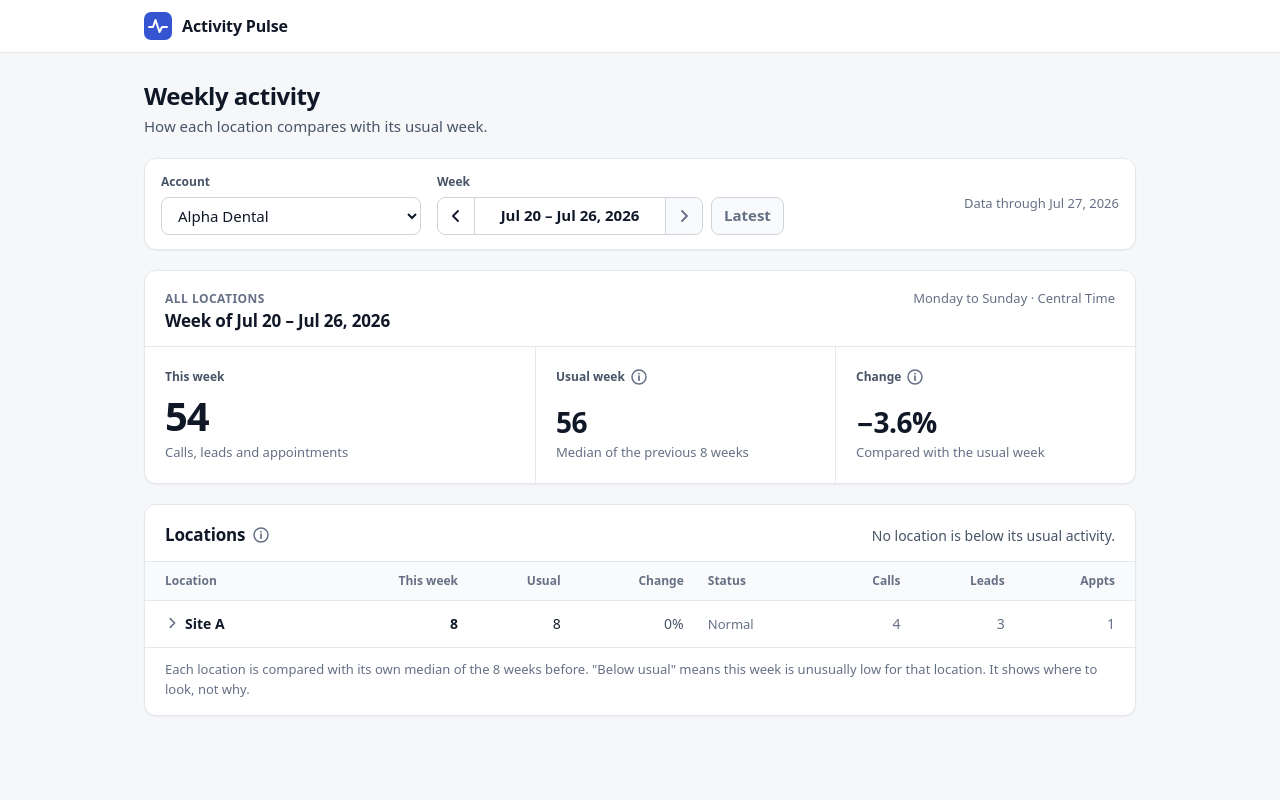
Test: information popovers and details › collapses expanded locations when another week is shown
Expected: the heading "Week of Jul 20 – Jul 26, 2026" is shown, [165,310,390,332]
Click the button "Site A".
click(198, 623)  # box [163,609,233,638]
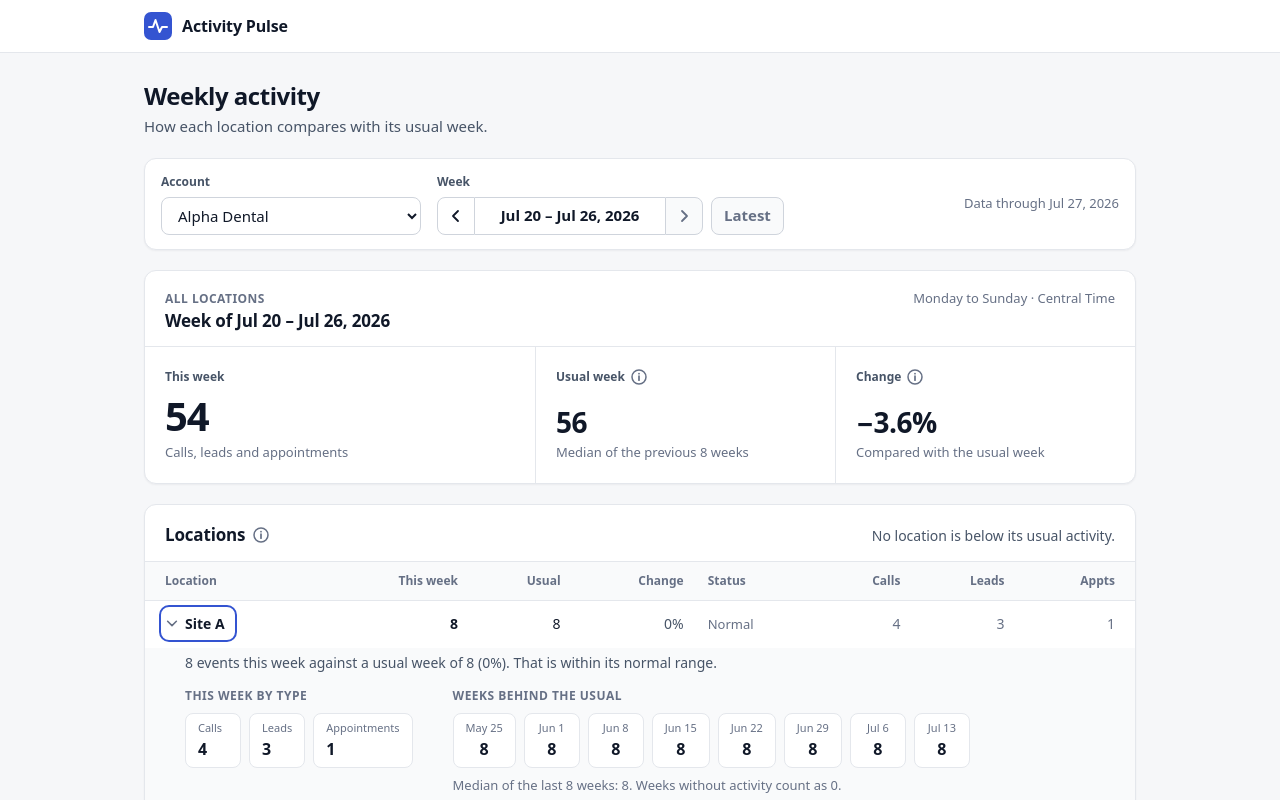
Expected: the button "Site A" is expanded, [163,609,233,638]
Click the button named "Previous week".
click(456, 216)  # box [437,196,475,234]
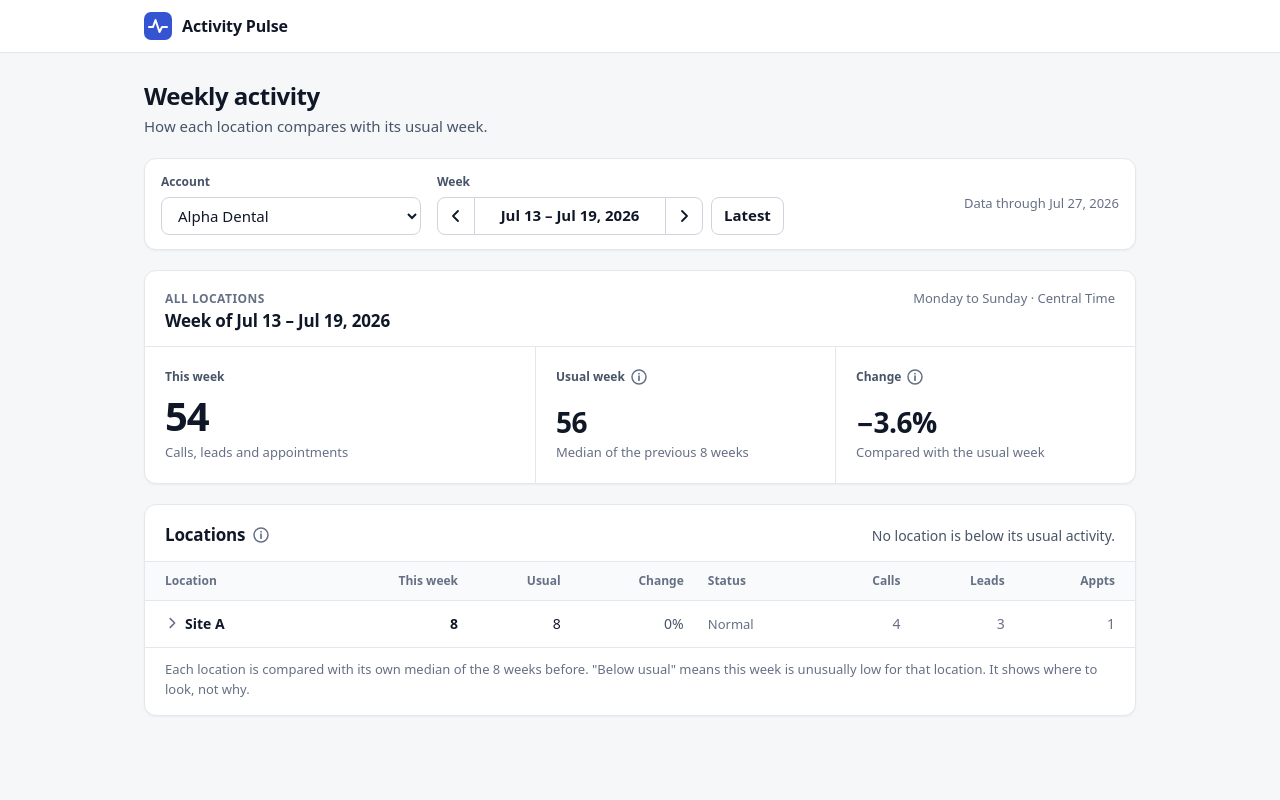
Expected: the heading "Week of Jul 13 – Jul 19, 2026" is shown, [165,310,390,332]
Expected: the button "Site A" is collapsed, [163,609,233,638]
